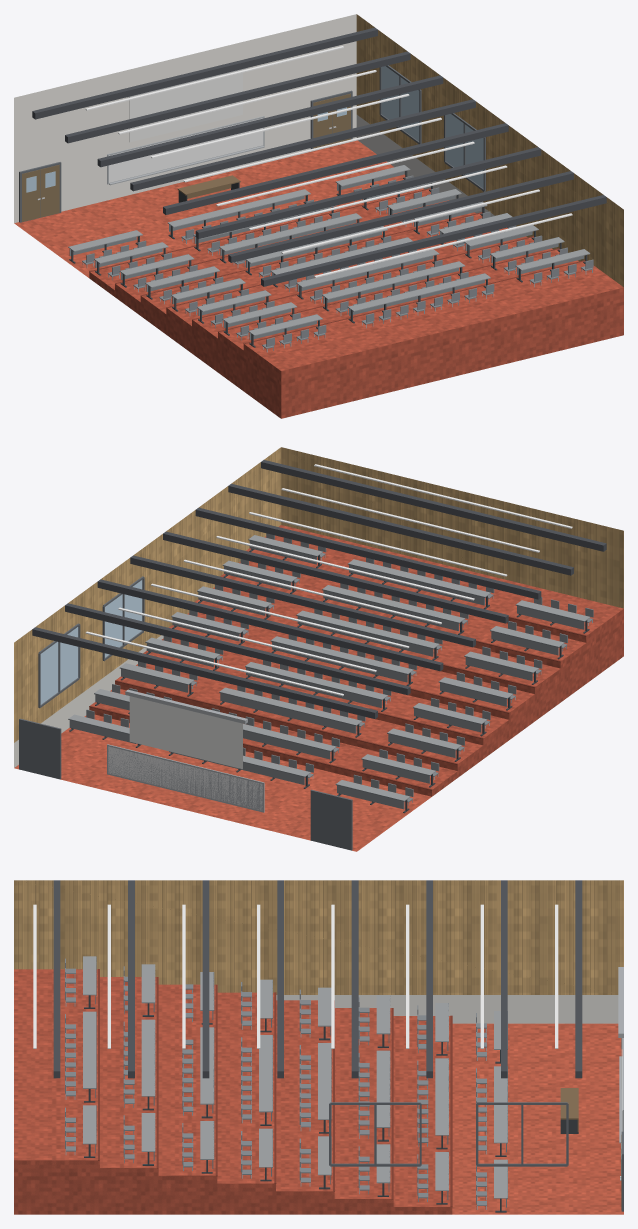
File: sala.glb
The picture shows the model from 3 angles, top to bottom: view 1: azimuth 30°, elevation 25°; view 2: azimuth 150°, elevation 25°; view 3: azimuth 270°, elevation 25°; orthographic projection. The views are drawn at different scales.
Visible parts, largest first — view 1: escalon, viga, muro, madera, mesa, piso, silla, mesa_panel, luz, telon, borde_escalon, pizarra (+8 smaller); view 2: escalon, madera, viga, mesa_panel, mesa, piso, silla, luz, telon, pizarra_marco, marco_puerta, pizarra (+6 smaller); view 3: escalon, madera, piso, mesa, viga, silla, muro, luz, borde_escalon, marco_ventana, pata, silla_pata (+3 smaller).
Part boxes in pixels (<box>): escalon: <box>89,189,623,418</box>; viga: <box>32,27,606,286</box>; muro: <box>14,14,494,223</box>; madera: <box>356,14,623,287</box>; mesa: <box>68,165,590,335</box>; piso: <box>14,140,424,277</box>; silla: <box>82,175,593,348</box>; mesa_panel: <box>69,171,584,339</box>; luz: <box>85,46,572,277</box>; telon: <box>129,69,242,142</box>; borde_escalon: <box>89,188,585,343</box>; pizarra: <box>109,118,263,182</box>; escalon: <box>89,525,623,796</box>; madera: <box>14,447,623,742</box>; viga: <box>32,460,606,718</box>; mesa_panel: <box>69,540,584,809</box>; mesa: <box>69,535,590,801</box>; piso: <box>14,714,431,851</box>; silla: <box>86,533,593,802</box>; luz: <box>85,464,572,696</box>; telon: <box>129,696,242,769</box>; pizarra_marco: <box>107,689,264,812</box>; marco_puerta: <box>19,718,352,850</box>; pizarra: <box>108,746,262,810</box>; escalon: <box>14,969,452,1214</box>; madera: <box>14,880,623,994</box>; piso: <box>452,1023,623,1214</box>; mesa: <box>83,956,507,1198</box>; viga: <box>53,880,582,1078</box>; silla: <box>65,958,486,1205</box>; muro: <box>276,995,618,1023</box>; luz: <box>33,904,558,1048</box>; borde_escalon: <box>98,969,452,1206</box>; marco_ventana: <box>329,1102,568,1166</box>; pata: <box>84,995,578,1212</box>; silla_pata: <box>65,974,486,1209</box>.
Size of the model in its own units: 20 by 7 by 27.
Materials: 24 (3 with a texture image).
